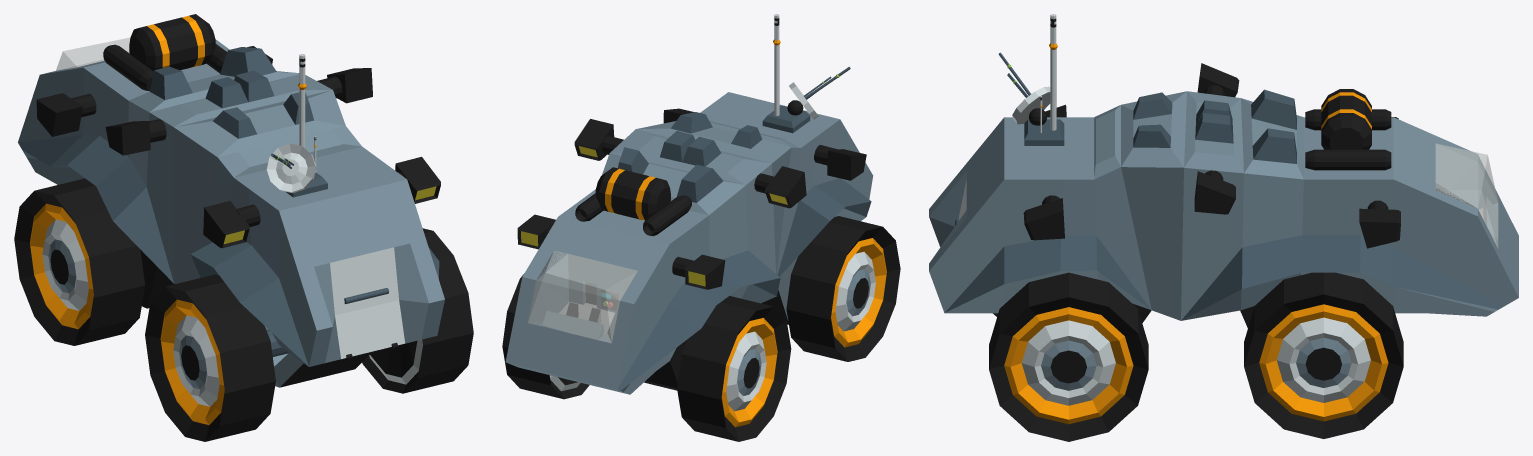
Rendered from car.glb.
The picture shows the model from 3 angles, left to right: view 1: azimuth 30°, elevation 25°; view 2: azimuth 150°, elevation 25°; view 3: azimuth 270°, elevation 25°; orthographic projection. The views are drawn at different scales.
Visible parts, largest first — view 1: group1612320968, group1122719341, group1357657435, group1128767216, group220664131, group1327962069, group2057187779, group380763511, group1190649678, group675658974, group1828669250, group2050722990 (+2 smaller); view 2: group1612320968, group1122719341, group1357657435, group1981983796, group220664131, group747399354, group675658974, group380763511, group2050722990, group2057187779, group1447854063, group1828669250 (+4 smaller); view 3: group1612320968, group1128767216, group747399354, group1981983796, group220664131, group1250980965, group2050722990, group1724621185, group1190649678, group1804931003, group675658974, group108472507 (+2 smaller).
Boxes of the visible parts, x1=… form: group1612320968: x1=18, y1=39, x2=444, y2=387; group1122719341: x1=145, y1=274, x2=275, y2=441; group1357657435: x1=14, y1=178, x2=145, y2=345; group1128767216: x1=362, y1=228, x2=473, y2=393; group220664131: x1=129, y1=14, x2=215, y2=70; group1327962069: x1=266, y1=143, x2=316, y2=193; group2057187779: x1=203, y1=200, x2=249, y2=248; group380763511: x1=36, y1=93, x2=82, y2=136; group1190649678: x1=395, y1=156, x2=440, y2=203; group675658974: x1=105, y1=121, x2=150, y2=155; group1828669250: x1=103, y1=44, x2=153, y2=90; group2050722990: x1=327, y1=68, x2=372, y2=103; group1612320968: x1=505, y1=92, x2=873, y2=394; group1122719341: x1=786, y1=216, x2=900, y2=361; group1357657435: x1=677, y1=296, x2=791, y2=441; group1981983796: x1=528, y1=250, x2=637, y2=343; group220664131: x1=595, y1=167, x2=670, y2=220; group747399354: x1=502, y1=273, x2=589, y2=399; group675658974: x1=765, y1=166, x2=806, y2=208; group380763511: x1=685, y1=254, x2=725, y2=289; group2050722990: x1=574, y1=119, x2=614, y2=160; group2057187779: x1=827, y1=149, x2=866, y2=180; group1447854063: x1=541, y1=311, x2=603, y2=339; group1828669250: x1=643, y1=195, x2=691, y2=236; group1612320968: x1=929, y1=89, x2=1518, y2=327; group1128767216: x1=989, y1=272, x2=1148, y2=441; group747399354: x1=1244, y1=272, x2=1403, y2=438; group1981983796: x1=1435, y1=143, x2=1498, y2=248; group220664131: x1=1321, y1=89, x2=1371, y2=149; group1250980965: x1=1305, y1=149, x2=1391, y2=170; group2050722990: x1=1194, y1=171, x2=1235, y2=214; group1724621185: x1=1359, y1=208, x2=1400, y2=248; group1190649678: x1=1023, y1=198, x2=1064, y2=240; group1804931003: x1=1024, y1=119, x2=1064, y2=145; group675658974: x1=1197, y1=63, x2=1239, y2=97; group108472507: x1=1049, y1=14, x2=1057, y2=130.
Bounding box in the file's own units: 0.95 × 1.29 × 1.92.
